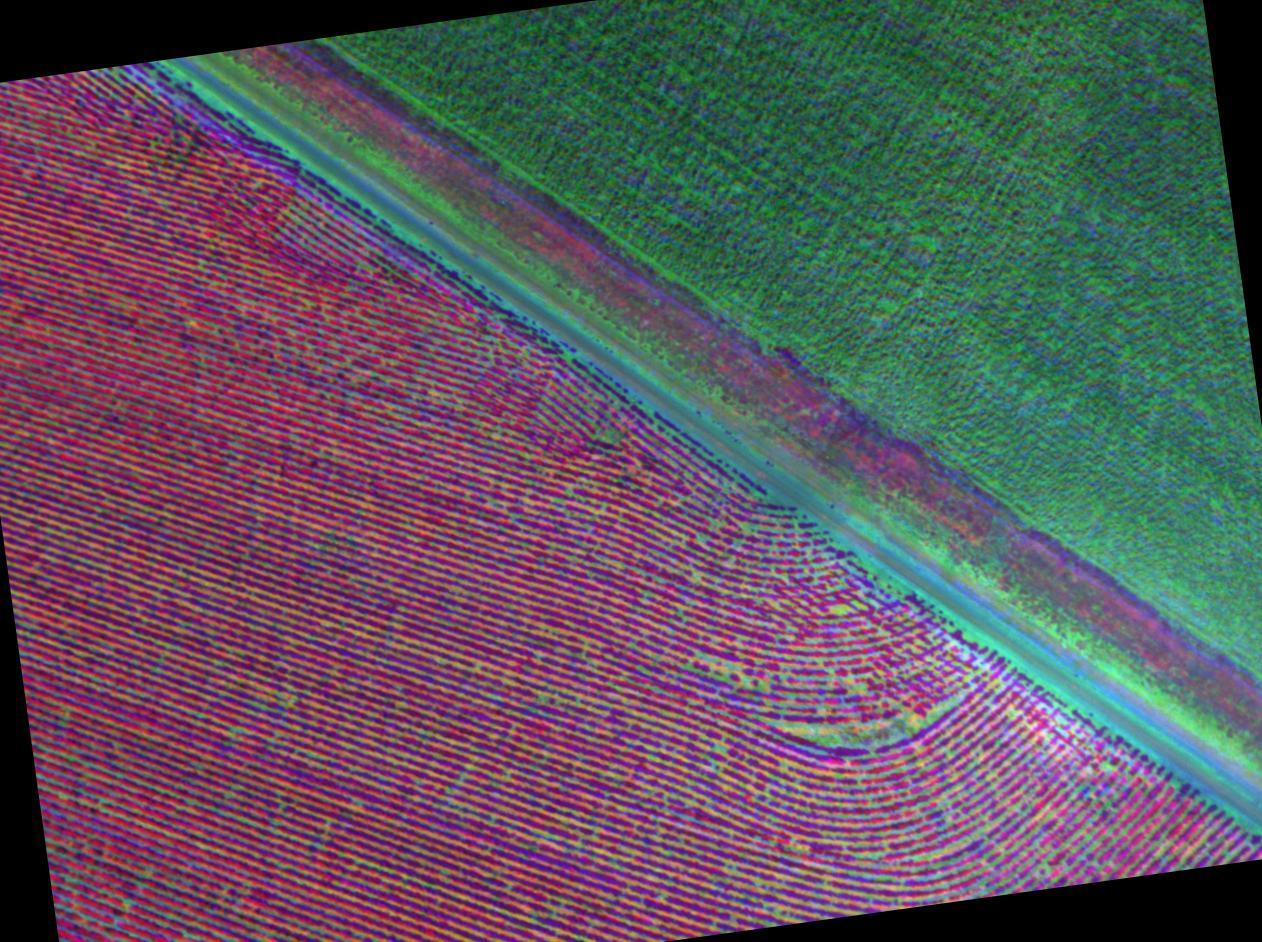dc: (766, 655, 950, 765), (858, 823, 992, 889), (206, 715, 282, 806), (688, 653, 762, 731), (1061, 748, 1122, 814)
